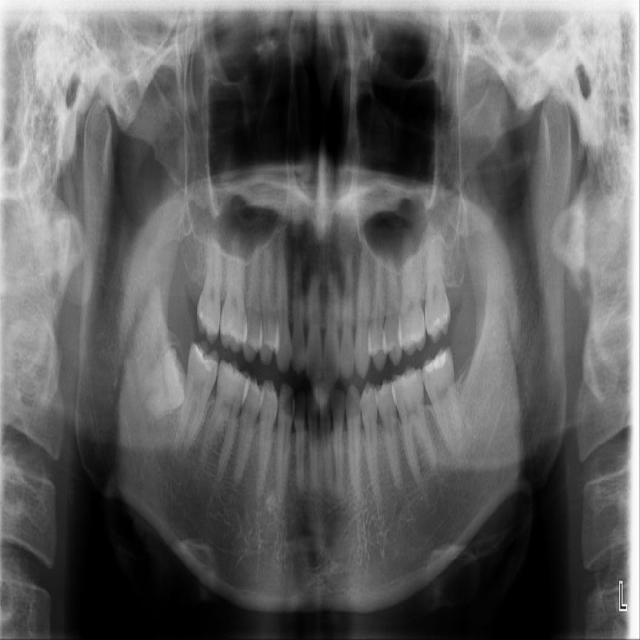Filling: (425, 352, 446, 373)
